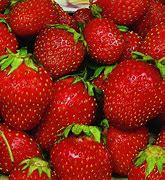Fresa: (35, 72, 100, 146), (103, 54, 165, 131), (1, 53, 54, 132), (51, 131, 114, 180), (33, 24, 88, 78), (83, 15, 127, 66), (127, 141, 165, 180), (9, 157, 57, 180)
